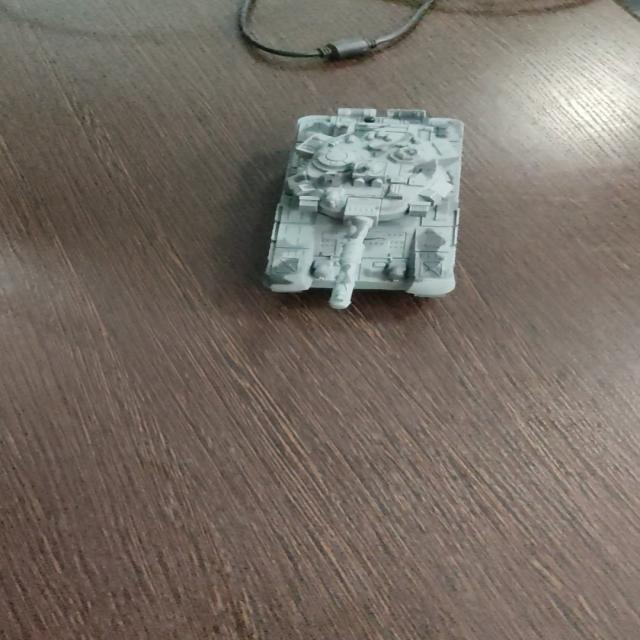tank: (262, 105, 459, 309)
